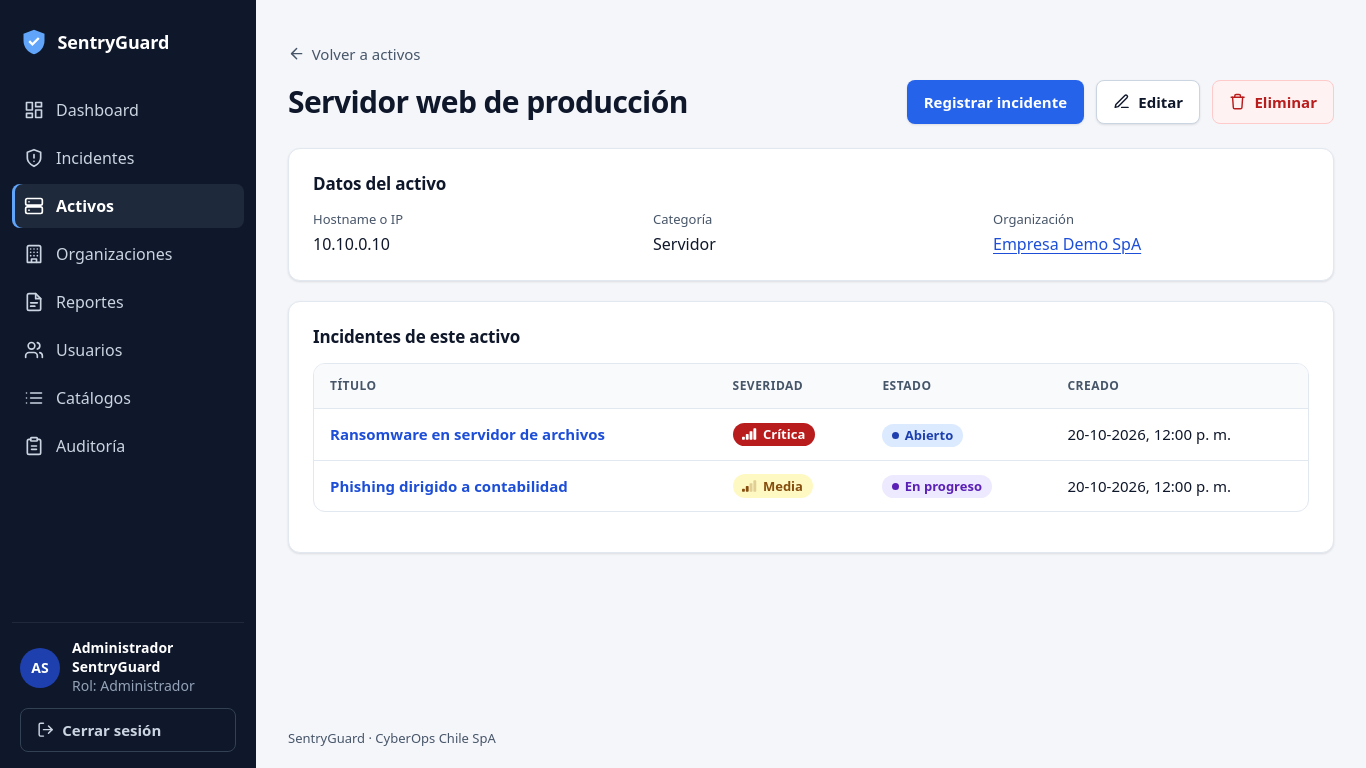
Test: Activos › si la API rechaza eliminar un activo con incidentes (409), muestra el motivo
This screenshot has width=1366, height=768.
Click the button "Eliminar" at (1273, 102), box [1212, 80, 1334, 124]
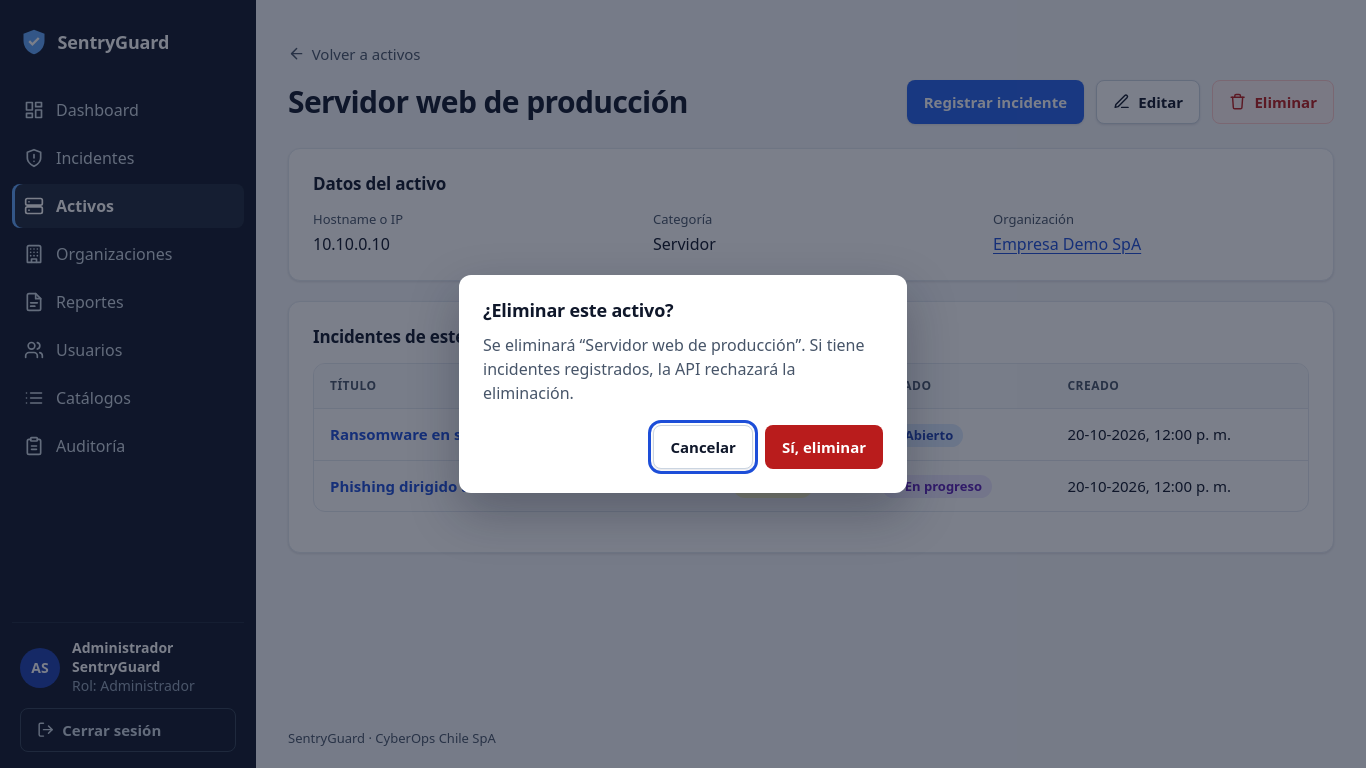
Click the button "Sí, eliminar" at (824, 447), box [765, 425, 883, 469]
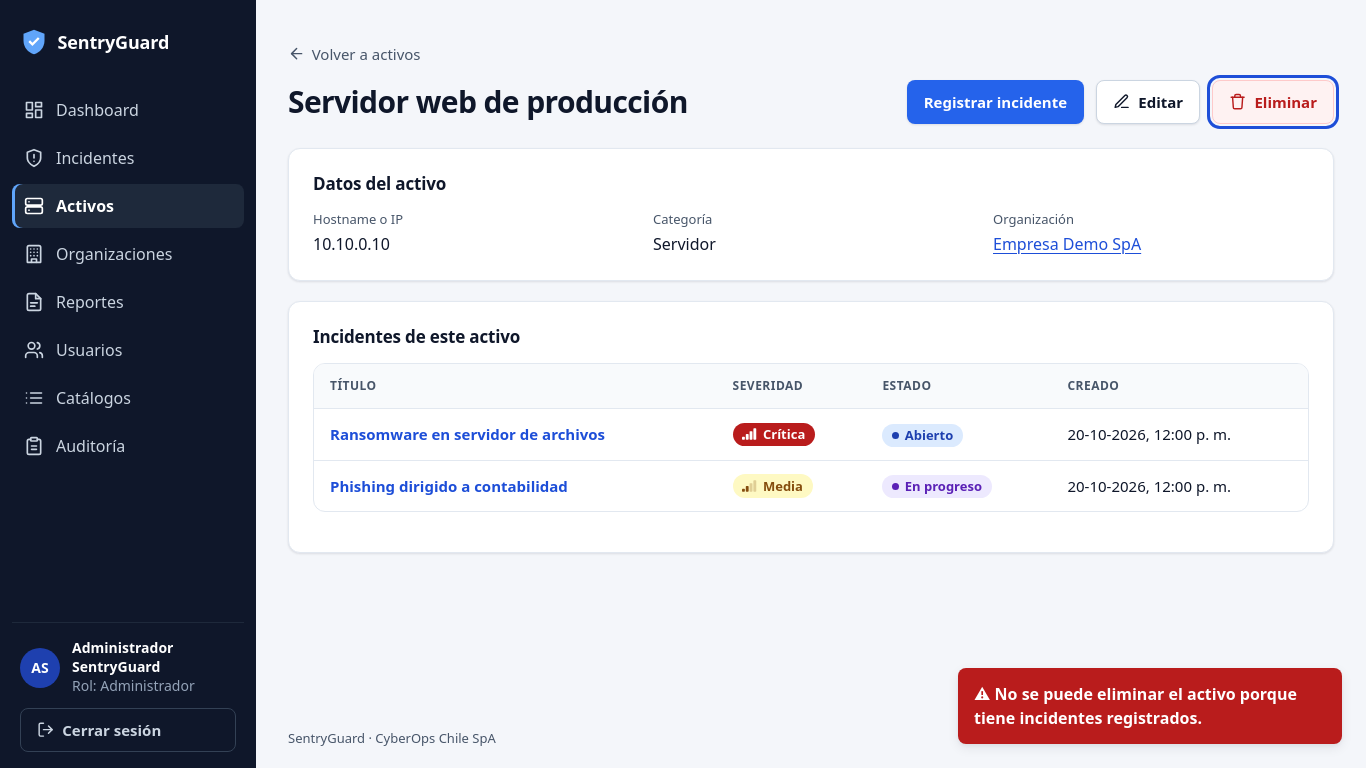
Now the text "No se puede eliminar el activo porque tiene incidentes registrados." is shown, box [974, 683, 1297, 729]
